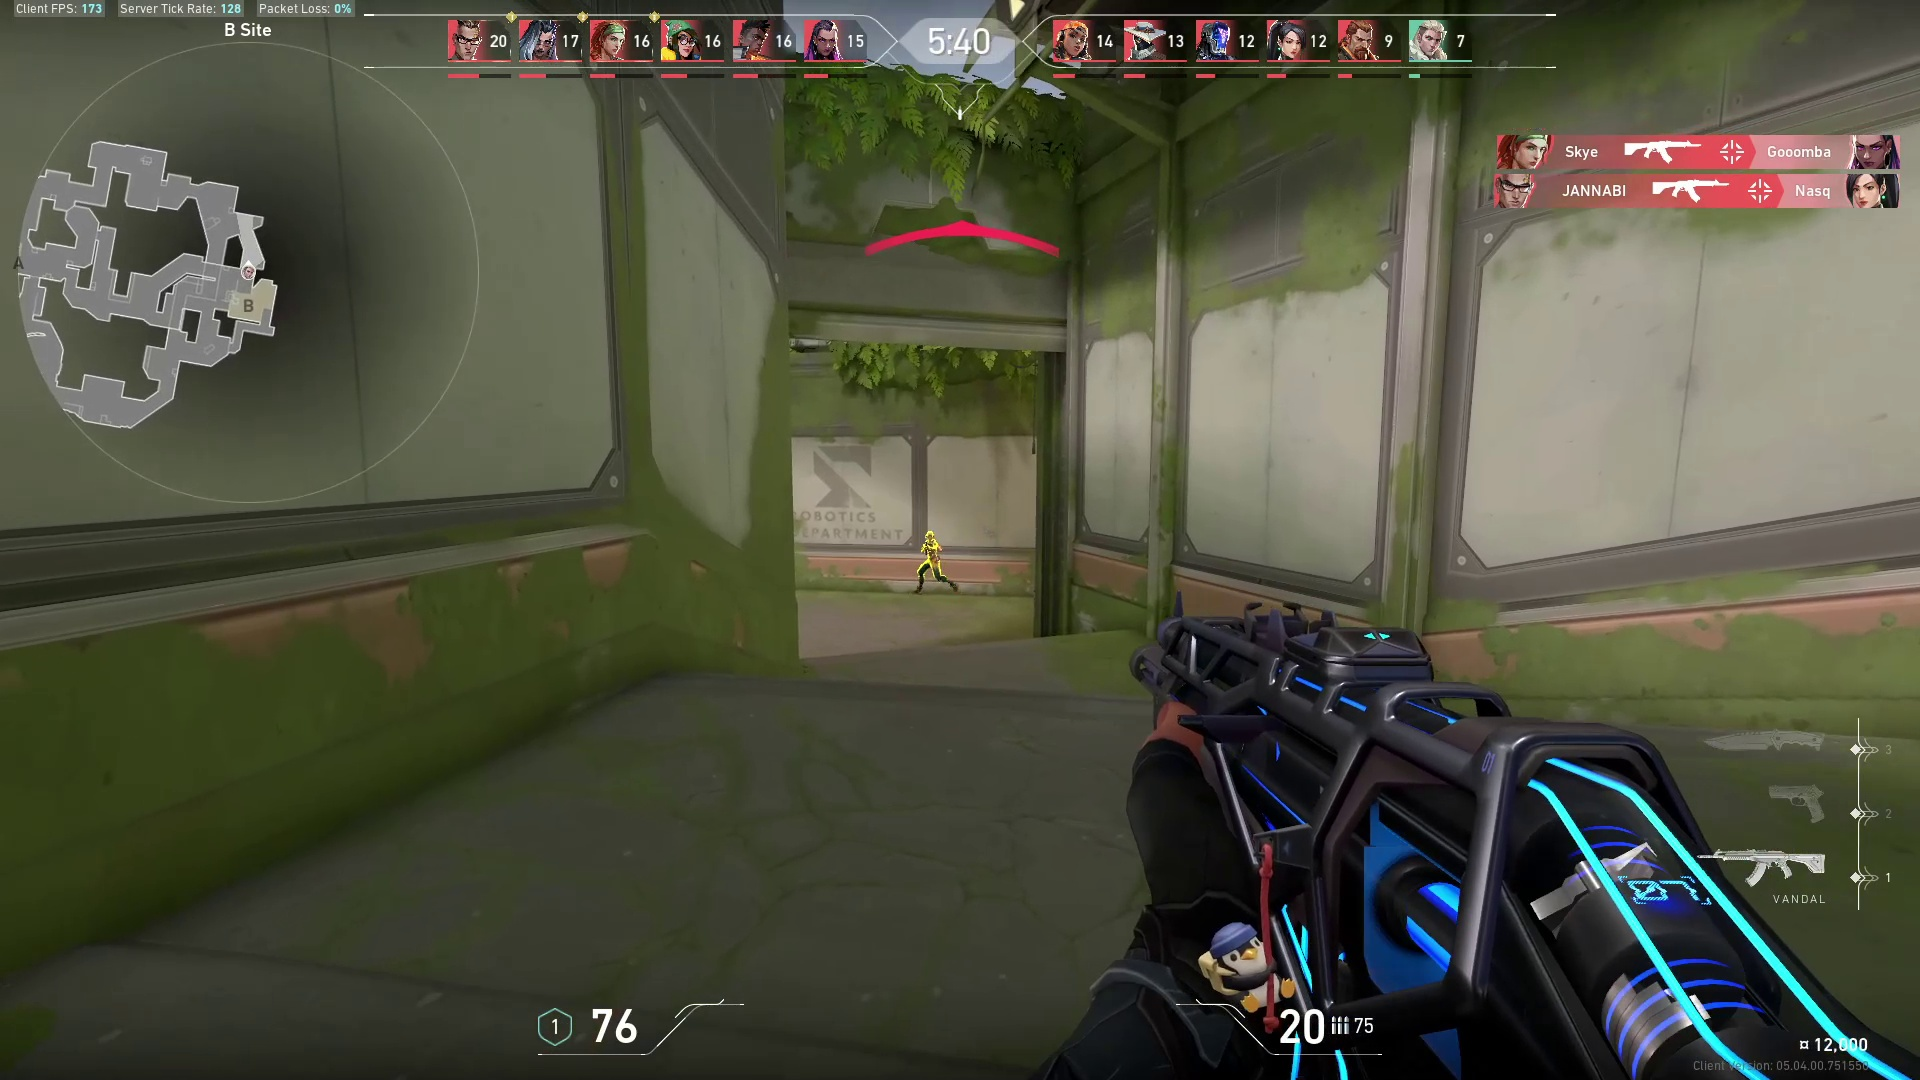enemy_body: (910, 542, 963, 596)
enemy_head: (922, 529, 938, 542)
